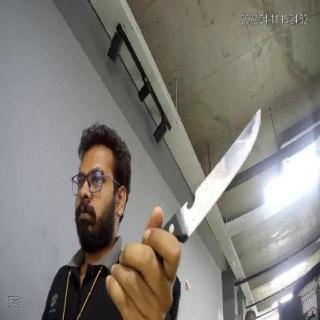knife: (167, 108, 264, 252)
